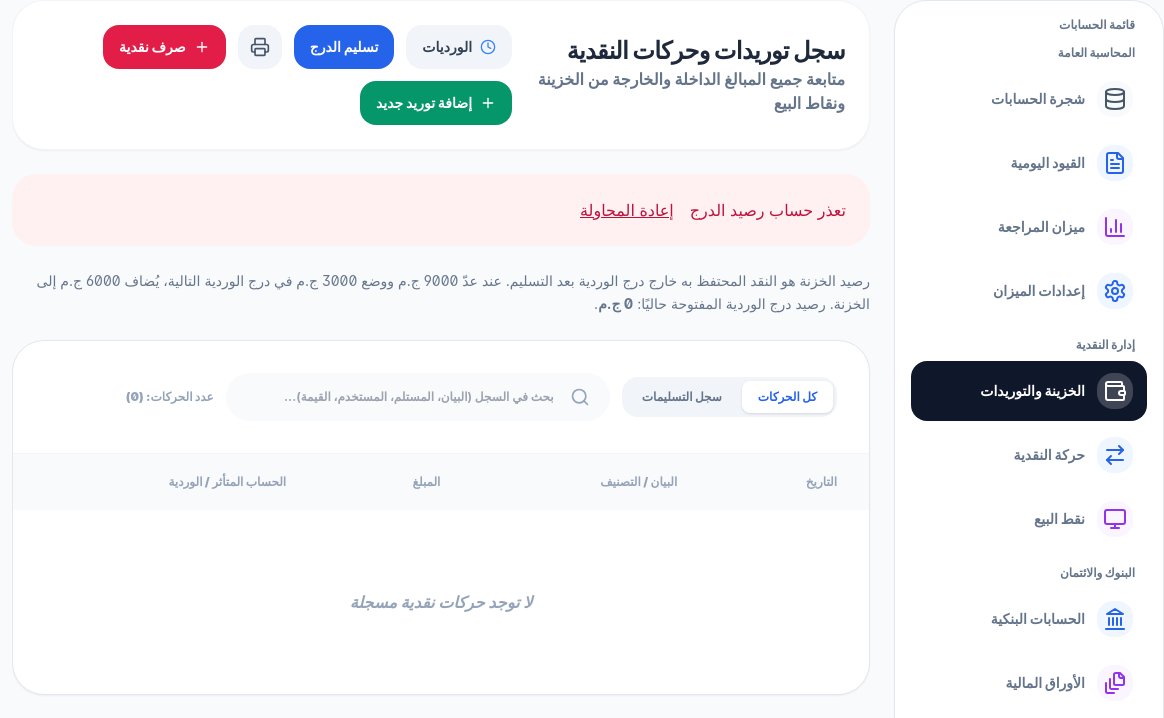
hides stale drawer amounts and offers retry when the summary fails
The image size is (1164, 718).
Check: the message shows "تعذر حساب رصيد الدرج", box [690,200,846,220]
Click the button "إعادة المحاولة" at [627, 210], box [580,198,674,222]
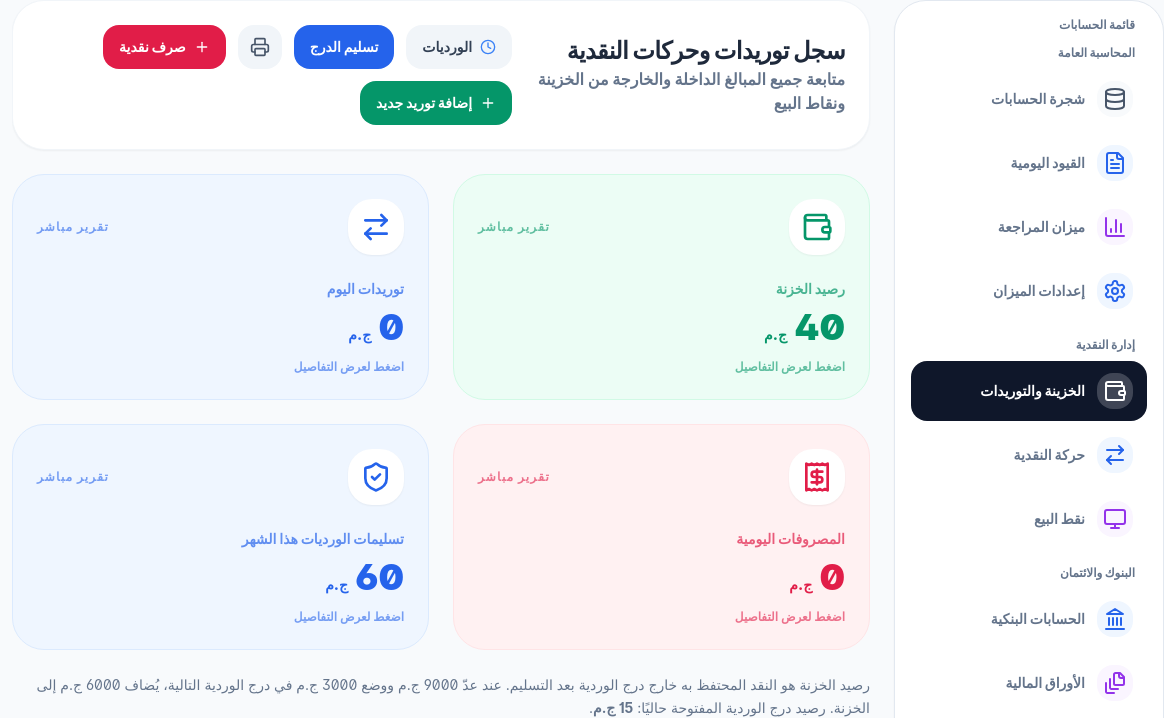
Check: the button with aria-label "عرض تفاصيل رصيد الخزنة" shows "40", box [453,174,870,400]
